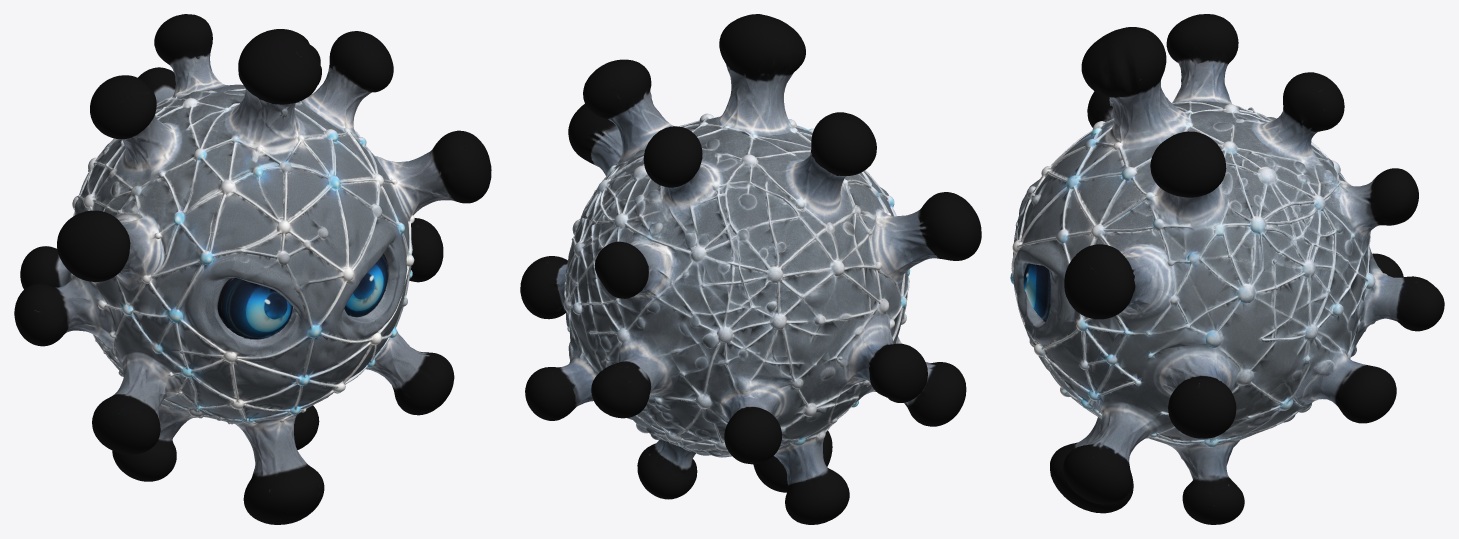
Rendered from pet-virus.glb.
3 views of the same model, side by side, from view 1: azimuth 30°, elevation 25°; view 2: azimuth 150°, elevation 25°; view 3: azimuth 270°, elevation 25° (orthographic). The views are drawn at different scales.
Visible parts, largest first — view 1: Mesh_0.002; view 2: Mesh_0.002; view 3: Mesh_0.002.
Part boxes in pixels (x1,y1,x2,y2): Mesh_0.002: (14,14,491,524); Mesh_0.002: (520,14,981,524); Mesh_0.002: (1010,14,1444,524).
Size of the model in its own units: 0.1369 by 0.15 by 0.1216.
1 material, 1 textured.
